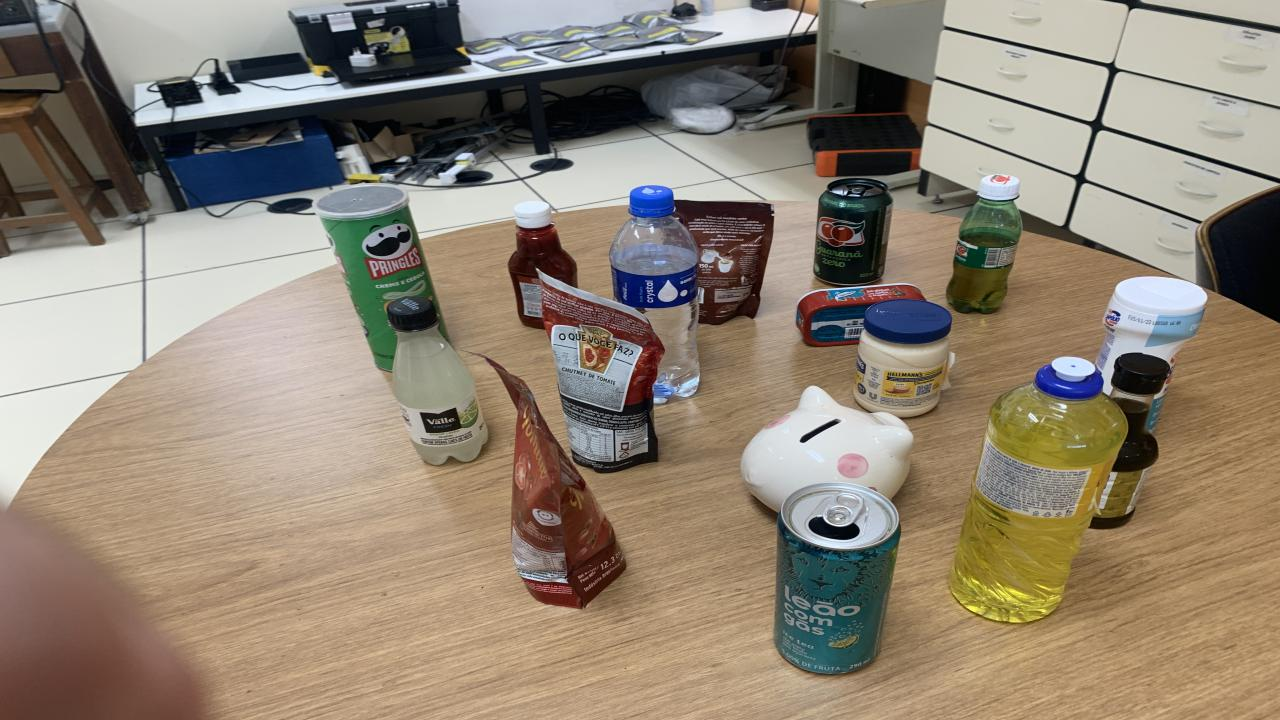Cleaner-Cleanup_Items: (1095, 276, 1208, 381)
Coffee-Pantry_Items: (675, 201, 775, 324)
Detergent-Cleanup_Items: (950, 356, 1128, 622)
English_Sauce-Pantry_Items: (1090, 352, 1170, 529)
Guarana-Drinks: (948, 174, 1022, 313)
Guarana_Can-Drinks: (812, 178, 892, 285)
Ketchup-Pantry_Items: (508, 201, 578, 328)
Mayonnaise-Pantry_Items: (855, 300, 955, 416)
Pig_Safe-Miscellaneous: (740, 386, 912, 510)
Pringles-Snacks: (315, 184, 438, 371)
Soda-Drinks: (385, 296, 488, 465)
Tea-Drinks: (775, 484, 900, 673)
Tomato_Sauce-Pantry_Items: (485, 356, 625, 609), (540, 272, 665, 472)
Tuna_Can-Pantry_Items: (795, 283, 925, 347)
Water_Bottle-Drinks: (610, 186, 700, 403)
